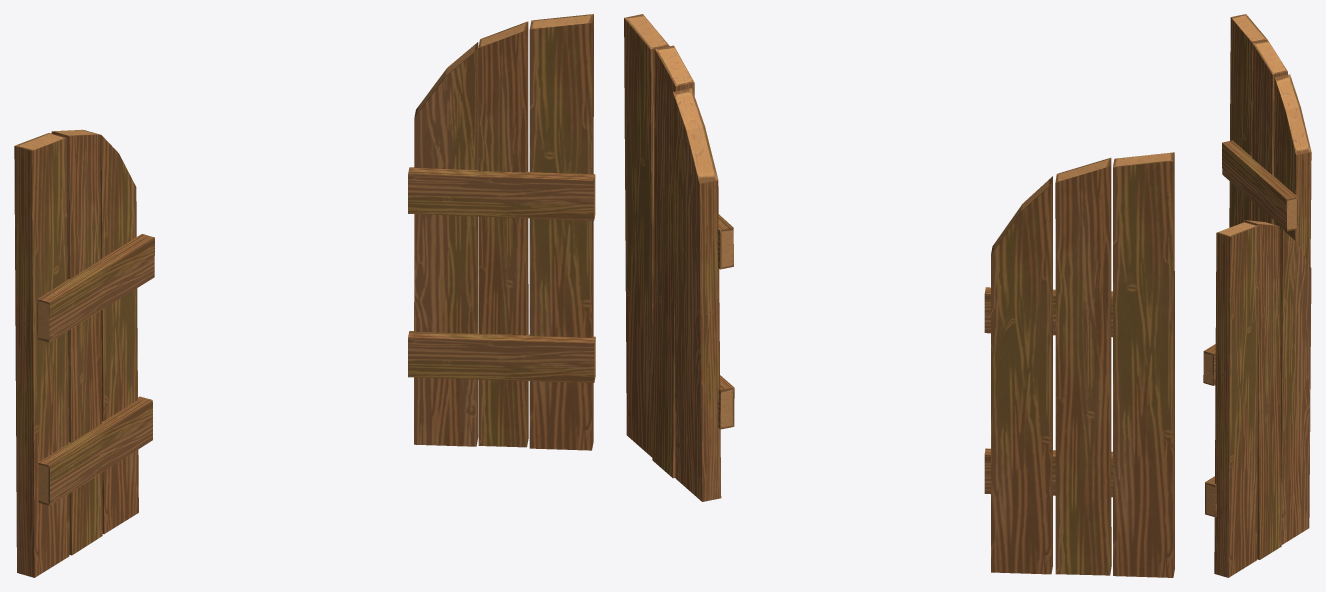
The model's file is WindowShutters_Wide_Round_Open.glb.
3 renders of one model, left to right at view 1: azimuth 30°, elevation 25°; view 2: azimuth 150°, elevation 25°; view 3: azimuth 270°, elevation 25°, orthographic. The views are drawn at different scales.
Parts seen in each view (by area): view 1: WindowShutters_Wide_Round_Open; view 2: WindowShutters_Wide_Round_Open; view 3: WindowShutters_Wide_Round_Open.
Boxes of the visible parts, x1,y1,x2,y2 form: WindowShutters_Wide_Round_Open: (14, 14, 595, 577); WindowShutters_Wide_Round_Open: (624, 14, 1174, 577); WindowShutters_Wide_Round_Open: (1203, 14, 1311, 577).
Bounding box in the file's own units: 2.3 × 1.65 × 0.4724.
Materials: 1 (1 with a texture image).
